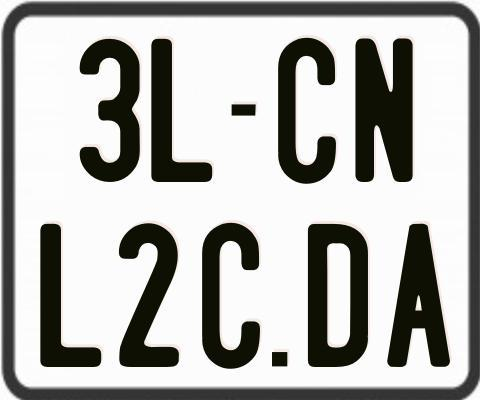2: (118, 223, 180, 369)
3: (77, 36, 141, 181)
A: (384, 223, 453, 371)
C: (276, 38, 338, 185), (199, 220, 259, 371)
D: (308, 224, 370, 372)
L: (150, 39, 216, 185), (38, 224, 99, 367)
N: (355, 36, 416, 185)
